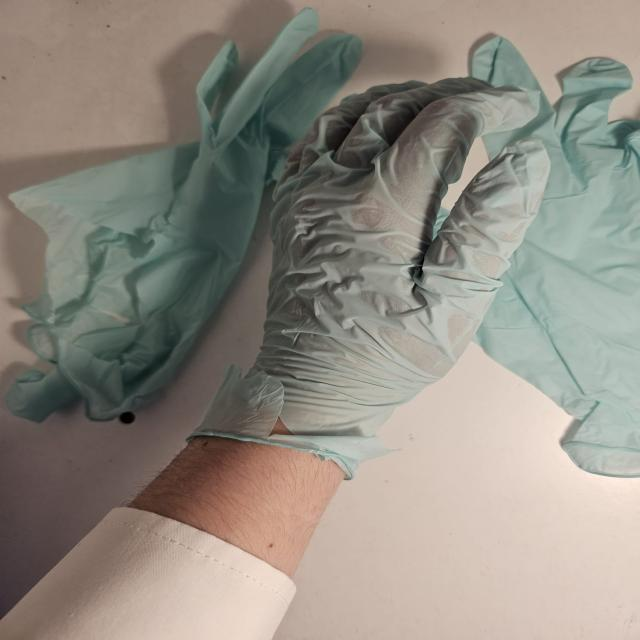gloves_damaged: (183, 74, 555, 484)
